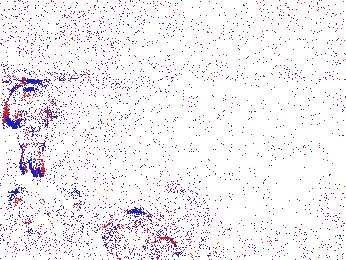flame jellyfish: (4, 82, 60, 178), (103, 208, 181, 260), (48, 187, 100, 236), (5, 186, 47, 233)
